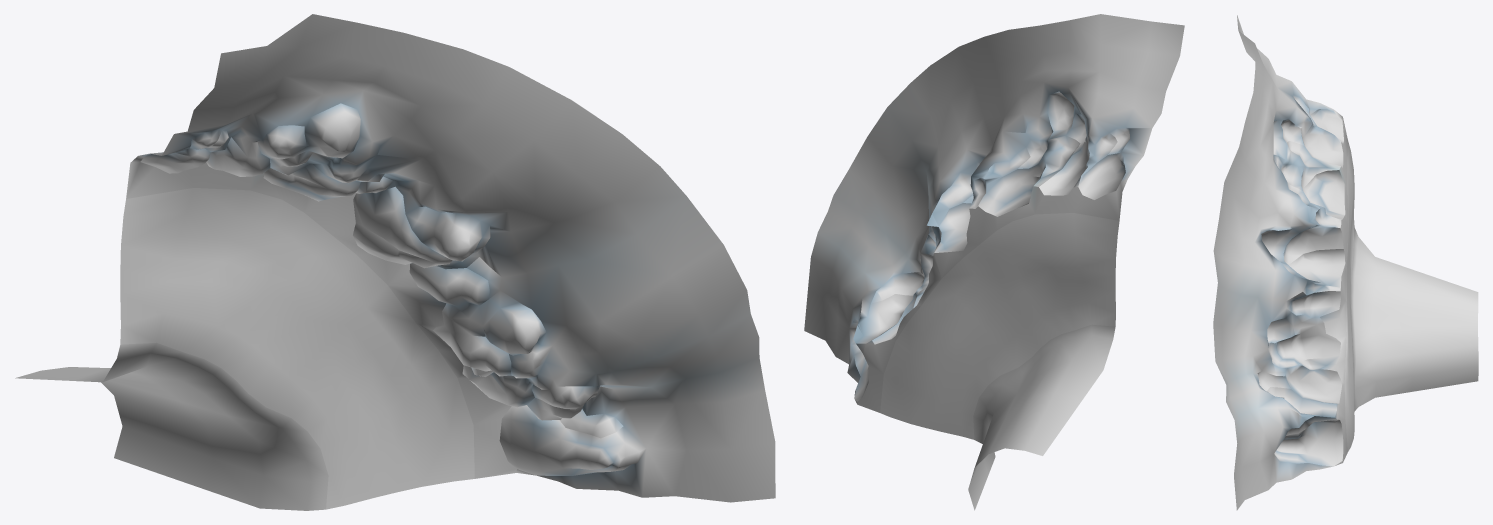
Rendered from Snow_CurveInA.glb.
3 renders of one model, left to right at view 1: azimuth 30°, elevation 25°; view 2: azimuth 150°, elevation 25°; view 3: azimuth 270°, elevation 25°, orthographic. The views are drawn at different scales.
Parts seen in each view (by area): view 1: MeshNode_0, MeshNode_1; view 2: MeshNode_0, MeshNode_1; view 3: MeshNode_0, MeshNode_1.
Part boxes in pixels (left/top/right/bottom): MeshNode_0: left=15, top=14, right=775, bottom=510; MeshNode_1: left=120, top=188, right=474, bottom=509; MeshNode_0: left=804, top=14, right=1184, bottom=510; MeshNode_1: left=880, top=213, right=1119, bottom=439; MeshNode_0: left=1213, top=15, right=1478, bottom=510; MeshNode_1: left=1344, top=141, right=1354, bottom=451.
Size of the model in its own units: 128 by 128 by 90.91.
